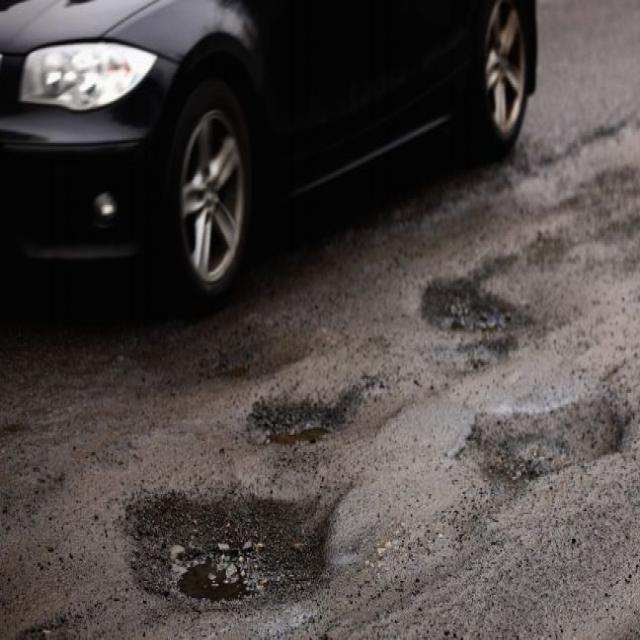Pothole: (112, 477, 350, 622), (451, 384, 630, 491), (416, 263, 535, 341), (246, 391, 354, 449)
